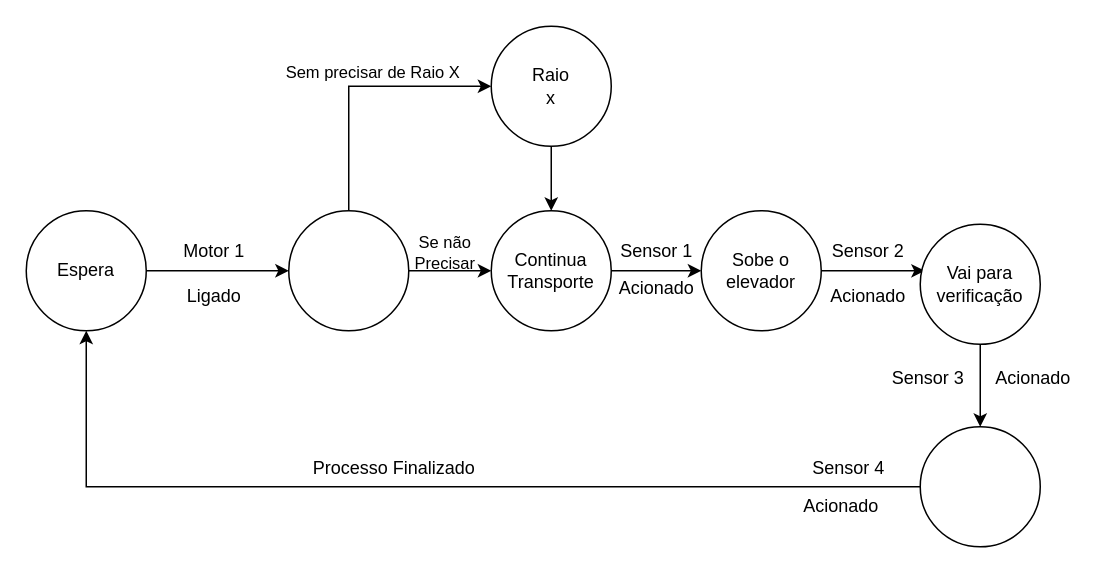
The diagram is 1112 pixels wide and 573 high, and some of its shapes have lost their labels. Here are the shapes that lost their labels. From the top down, the centre of each, then its label:
At pixel 348 270: "Começa transporte".
At pixel 979 486: "Vai pro carrinho".
